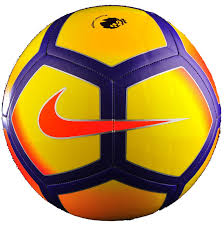top: (2, 2, 215, 225)
